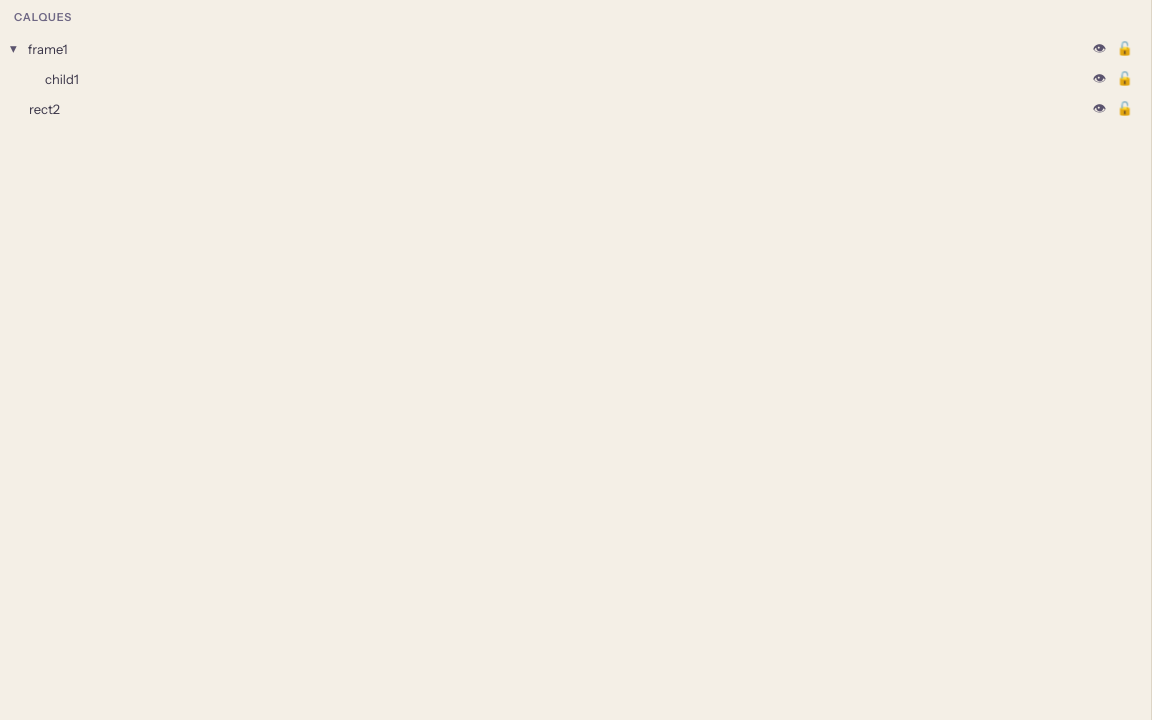
Test: LayersPanel › replie une frame pour masquer ses enfants puis les reaffiche
expect the list item with test id "layer-child1" is shown: met, box [45,70,1137,88]
Click the button with test id "layer-toggle-frame1": {"x": 13, "y": 49} [6,40,21,58]
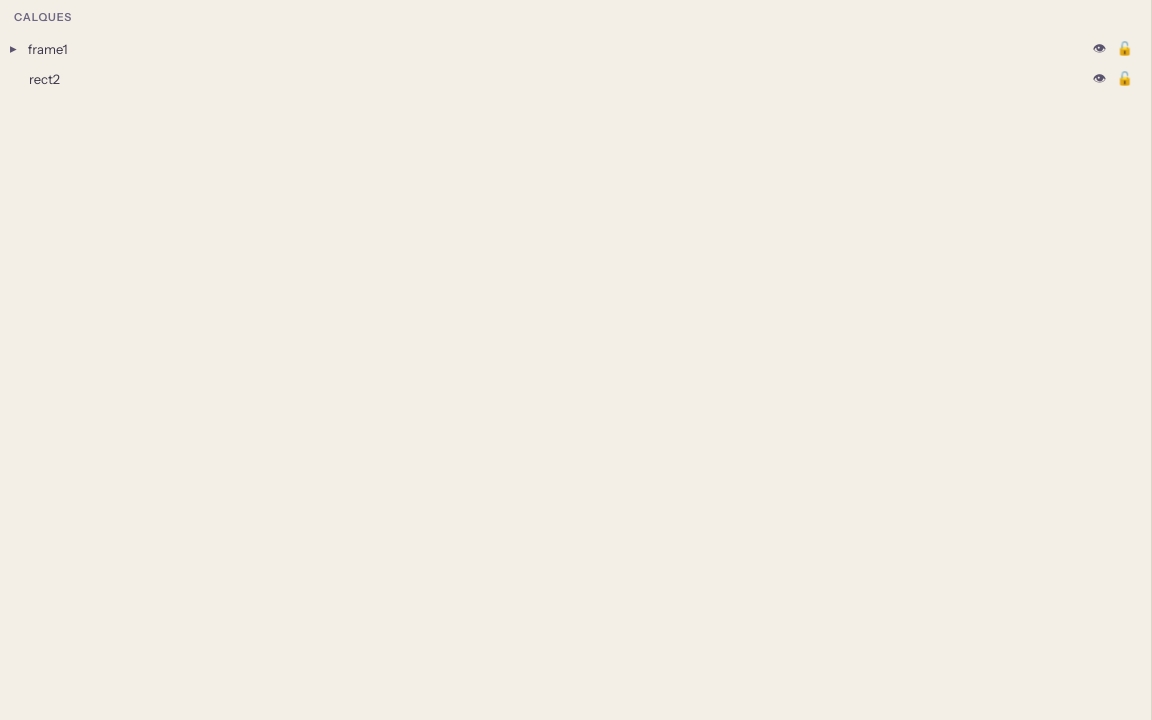
expect the list item with test id "layer-child1" is gone: met
Click the button with test id "layer-toggle-frame1": {"x": 13, "y": 49} [6,40,21,58]
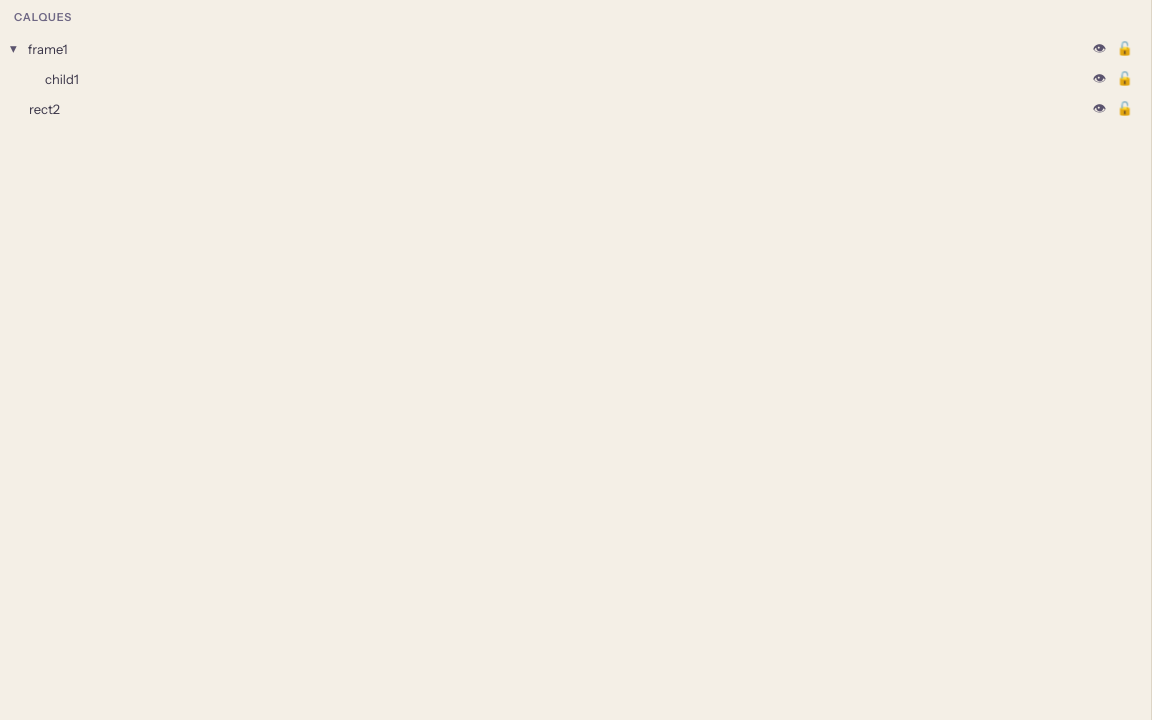
expect the list item with test id "layer-child1" is shown: met, box [45,70,1137,88]
